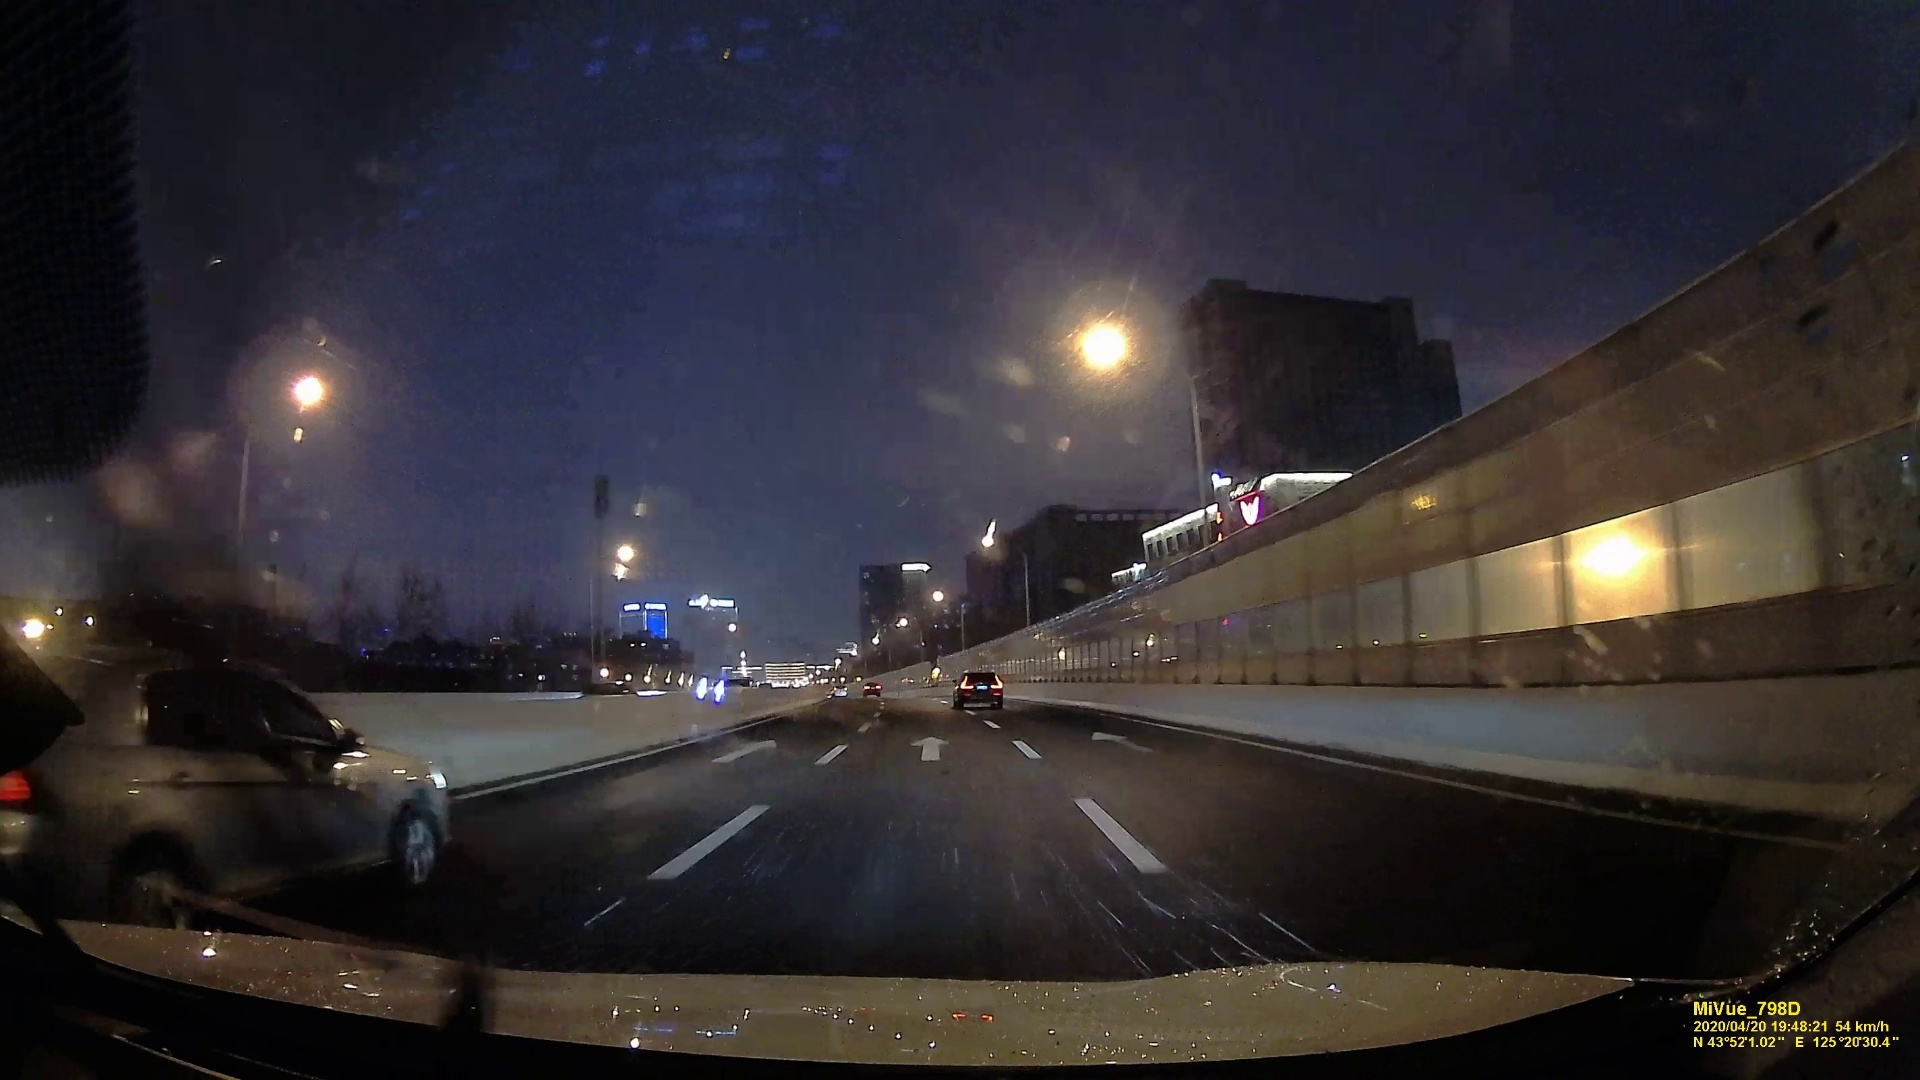vehicle: (84, 636, 444, 915), (953, 669, 1004, 709), (862, 680, 882, 696)
